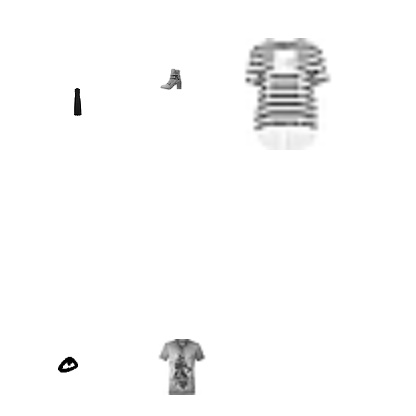0: (53, 351, 81, 379)
Ankle_boot: (160, 68, 182, 90)
Dress: (64, 88, 92, 116)
Shirt: (230, 38, 342, 150)
T-shirt/top: (153, 339, 209, 395)
